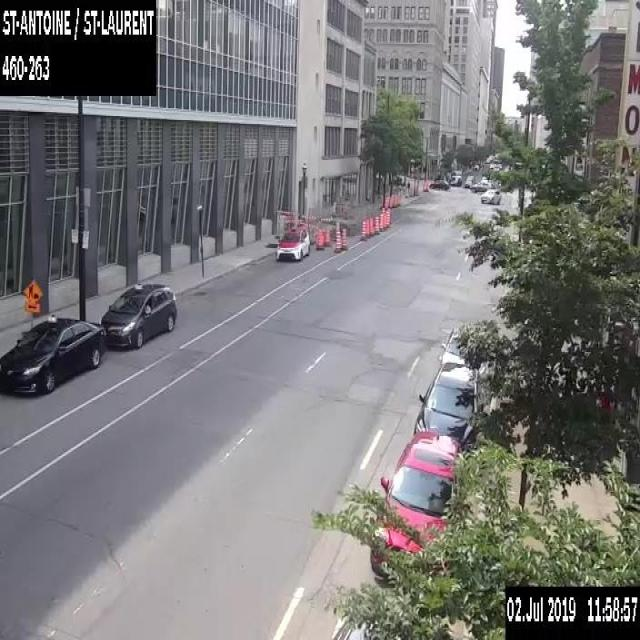construction: (276, 208, 314, 244), (22, 276, 44, 311), (315, 228, 324, 250), (334, 229, 342, 252), (324, 226, 331, 246), (341, 227, 347, 249), (360, 220, 366, 240), (378, 212, 384, 231), (365, 218, 370, 238), (374, 215, 379, 234), (369, 217, 374, 235), (386, 209, 390, 227), (382, 211, 386, 228), (396, 194, 400, 206), (392, 195, 396, 207), (388, 197, 392, 207), (384, 199, 388, 209), (380, 205, 384, 212)
pedestrian: (406, 179, 410, 193)
vehicle: (369, 430, 462, 576), (0, 313, 106, 395), (412, 360, 483, 460), (98, 282, 177, 348), (440, 325, 486, 375), (276, 227, 310, 260), (480, 187, 500, 203), (470, 180, 494, 192), (428, 178, 449, 189), (464, 174, 474, 187), (480, 176, 488, 182)
